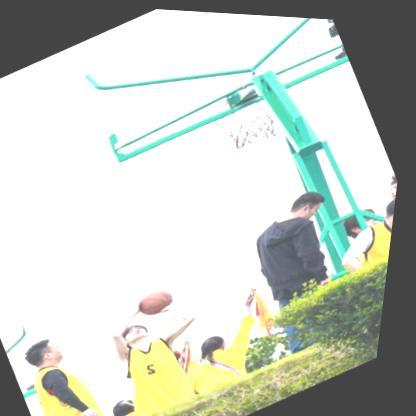basketball: (142, 281, 185, 318)
